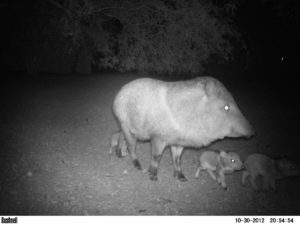javelina: (90, 63, 263, 191), (243, 147, 300, 193), (192, 143, 244, 193)
